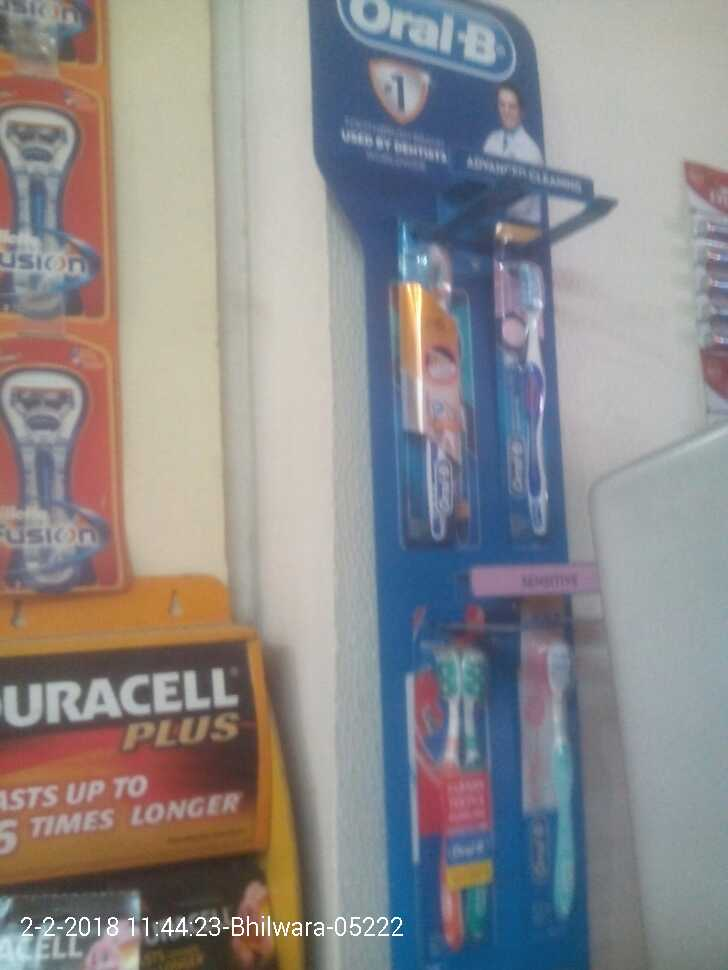oralb: (416, 623, 505, 947), (388, 212, 476, 532), (483, 227, 559, 537), (531, 613, 590, 943)
